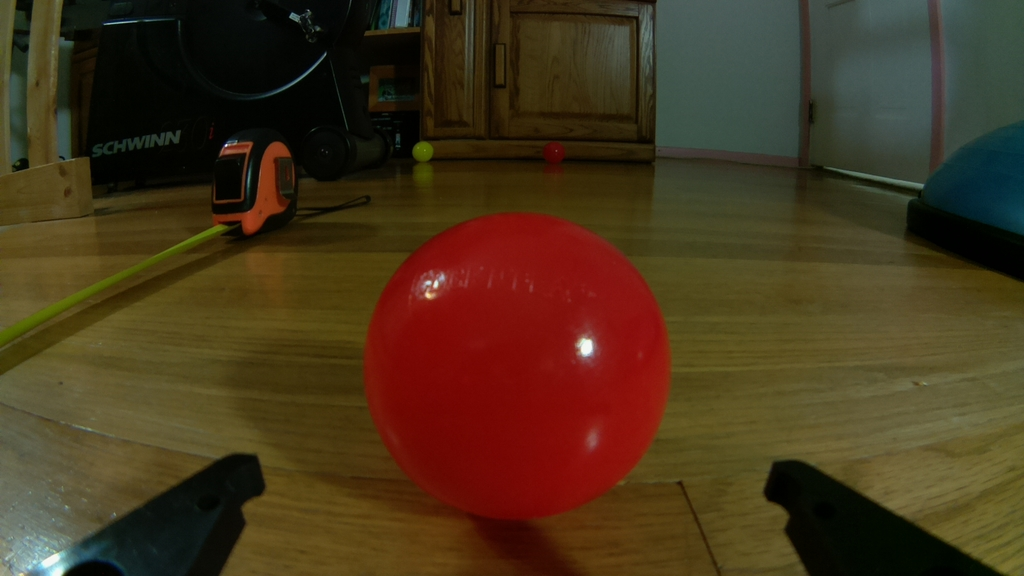ball: (353, 208, 678, 525)
